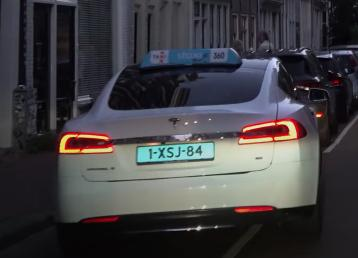license-plate: (136, 141, 215, 166)
